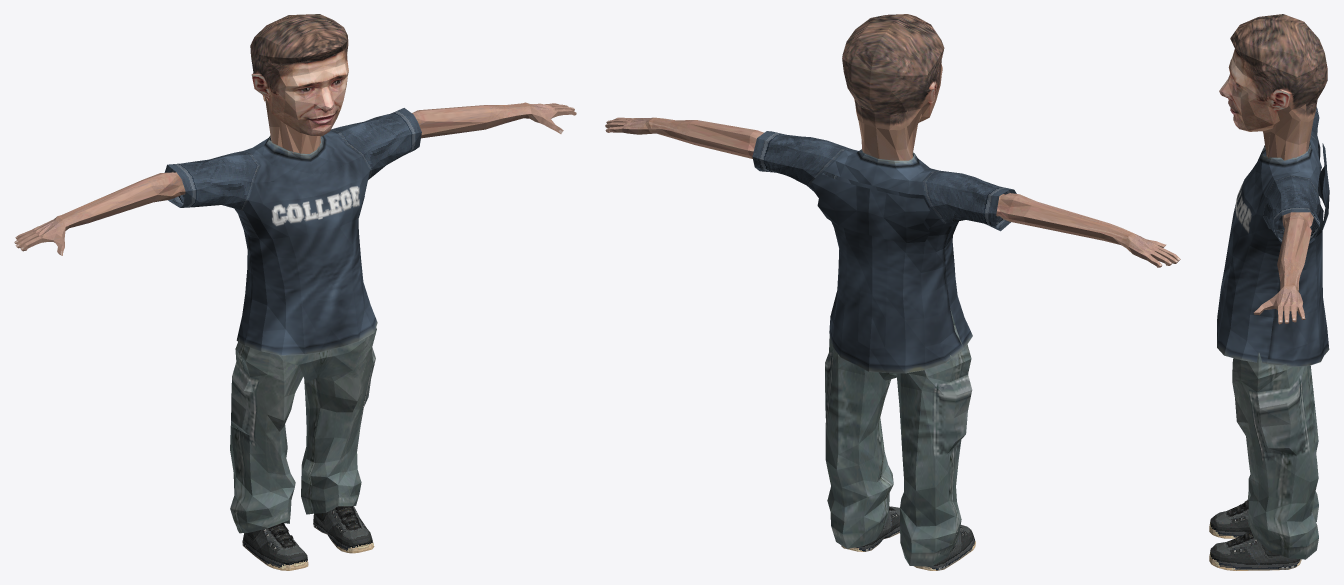
File: jak-highres-lod0.glb
3 views of the same model, side by side, from view 1: azimuth 30°, elevation 25°; view 2: azimuth 150°, elevation 25°; view 3: azimuth 270°, elevation 25° (orthographic). The views are drawn at different scales.
Visible parts, largest first — view 1: Mesh_0050, Mesh_0048, Mesh_0181, Mesh_0049, Mesh_0044, Mesh_0051, Mesh_0016, Mesh_0023, Mesh_0043, Mesh_0045, Mesh_0182; view 2: Mesh_0050, Mesh_0048, Mesh_0181, Mesh_0049, Mesh_0046, Mesh_0023, Mesh_0016, Mesh_0182, Mesh_0043, Mesh_0051; view 3: Mesh_0050, Mesh_0048, Mesh_0181, Mesh_0051, Mesh_0049, Mesh_0182, Mesh_0016, Mesh_0044, Mesh_0043, Mesh_0046, Mesh_0045, Mesh_0020.
Boxes of the visible parts, x1,y1,x2,y2 form: Mesh_0050: (230,327,376,533); Mesh_0048: (234,131,377,355); Mesh_0181: (250,14,348,136); Mesh_0049: (164,108,421,210); Mesh_0044: (254,157,364,238); Mesh_0051: (242,506,374,570); Mesh_0016: (419,103,527,137); Mesh_0023: (61,173,171,227); Mesh_0043: (14,102,576,255); Mesh_0045: (271,186,359,225); Mesh_0182: (265,97,320,153); Mesh_0050: (825,309,972,566); Mesh_0048: (810,149,972,373); Mesh_0181: (842,14,944,130); Mesh_0049: (752,131,1016,231); Mesh_0046: (811,173,929,242); Mesh_0023: (1007,194,1129,244); Mesh_0016: (652,118,756,158); Mesh_0182: (854,98,921,160); Mesh_0043: (605,117,1180,267); Mesh_0051: (841,506,975,570); Mesh_0050: (1232,353,1318,559); Mesh_0048: (1217,137,1329,366); Mesh_0181: (1219,14,1327,131); Mesh_0051: (1209,500,1301,570); Mesh_0049: (1262,107,1320,243); Mesh_0182: (1263,104,1313,160); Mesh_0016: (1277,218,1311,287); Mesh_0044: (1233,146,1264,245); Mesh_0043: (1254,285,1305,324); Mesh_0046: (1316,143,1329,236); Mesh_0045: (1235,184,1251,233); Mesh_0020: (1280,212,1300,290).
Size of the model in its own units: 3.15 by 2.81 by 0.5787.
Materials: 18 (18 with a texture image).
